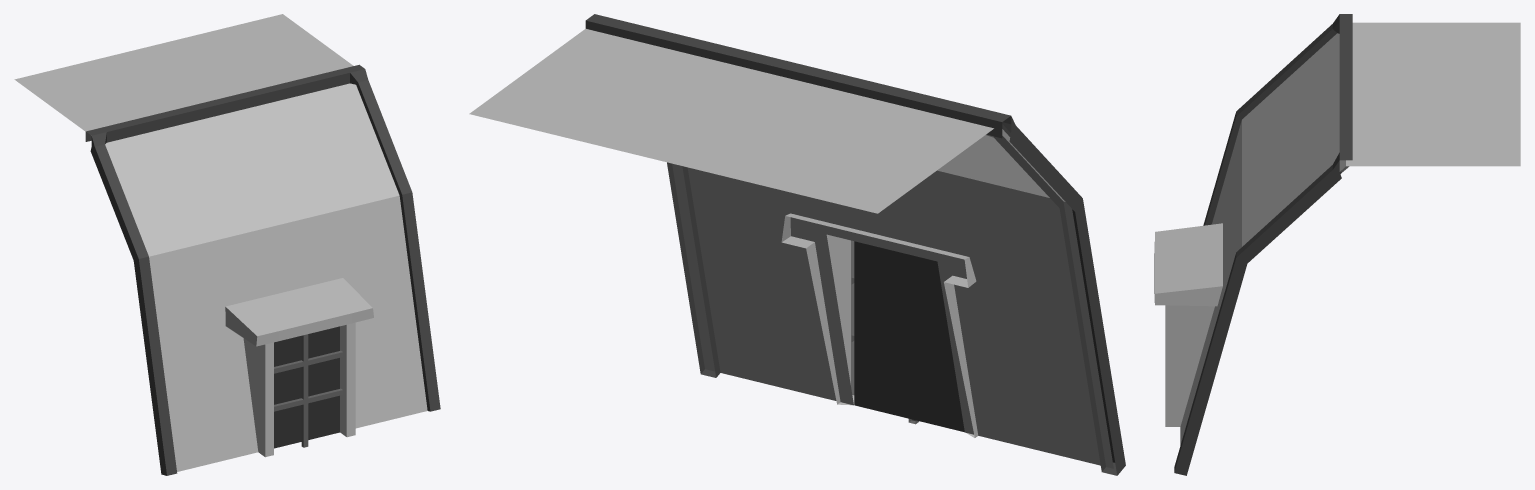
Rendered from Roof2.fbx.
The picture shows the model from 3 angles, left to right: view 1: azimuth 30°, elevation 25°; view 2: azimuth 150°, elevation 25°; view 3: azimuth 270°, elevation 25°; orthographic projection. The views are drawn at different scales.
Parts seen in each view (by area): view 1: roof2; view 2: roof2; view 3: roof2.
Part boxes in pixels (x1,y1,x2,y2): roof2: [14, 14, 440, 475]; roof2: [469, 14, 1125, 475]; roof2: [1154, 14, 1520, 475].
Size of the model in its own units: 204 by 206 by 215.
